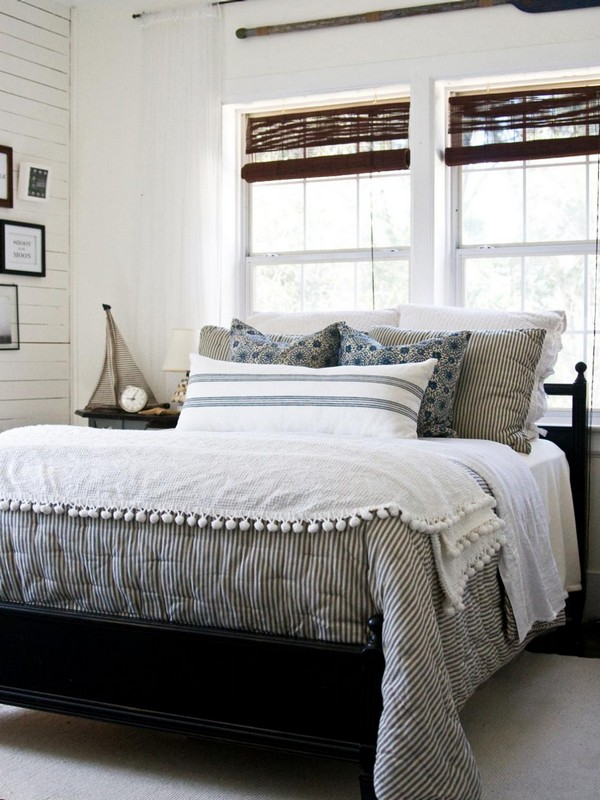bed: (3, 297, 580, 756)
lamp: (160, 320, 205, 409)
